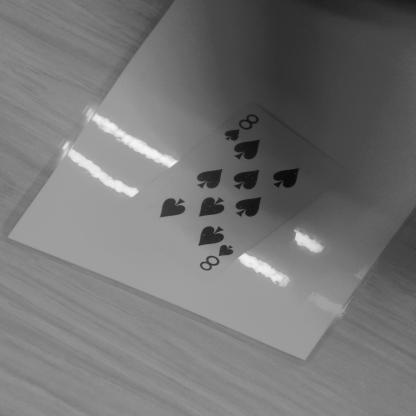8S: (192, 238, 243, 273), (218, 112, 264, 144)
